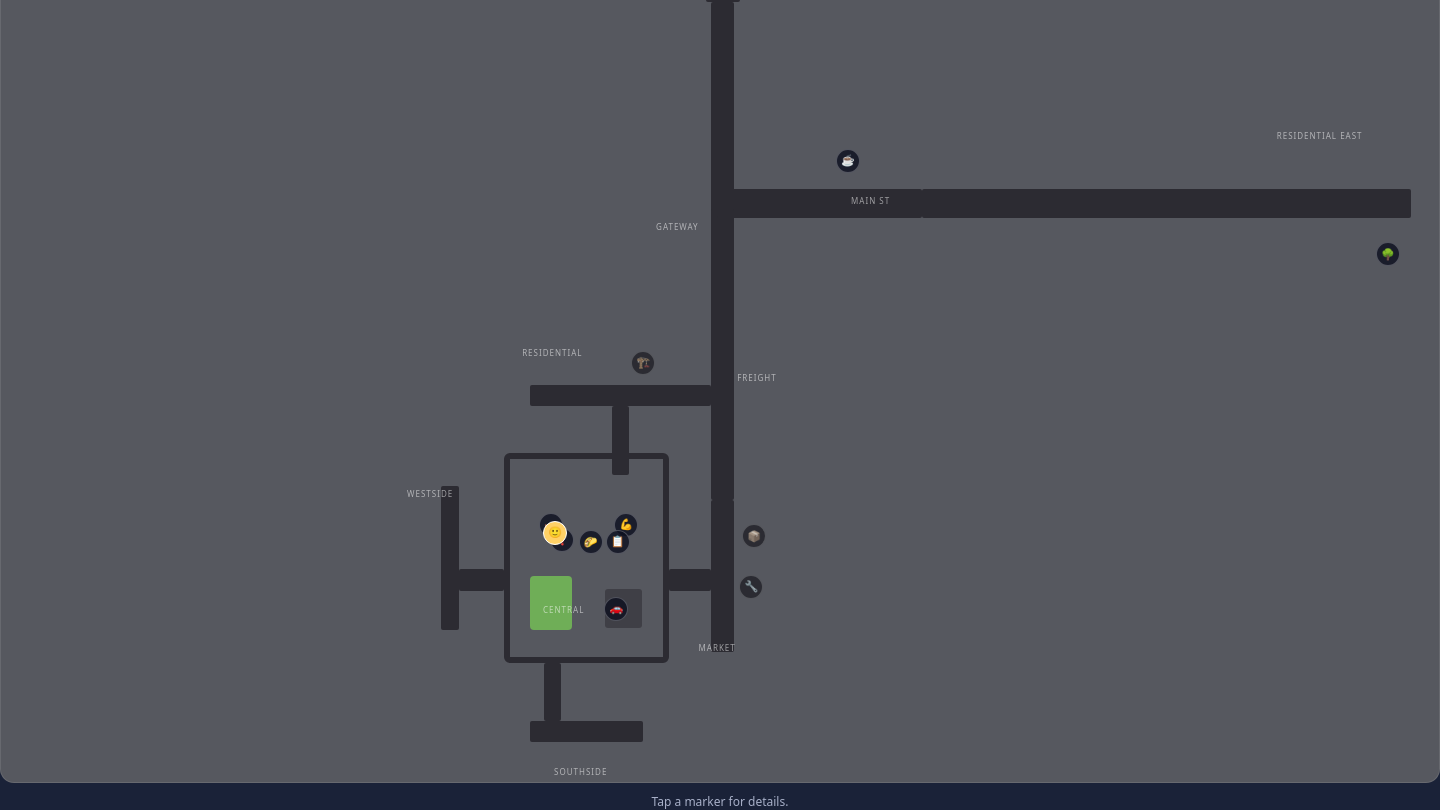
PhoneMap › clicking a marker shows its label
The image size is (1440, 810).
(page scrolled)
Click the button with test id "map-marker-gym". click: (626, 525)
box: x1=614 y1=513 x2=638 y2=537
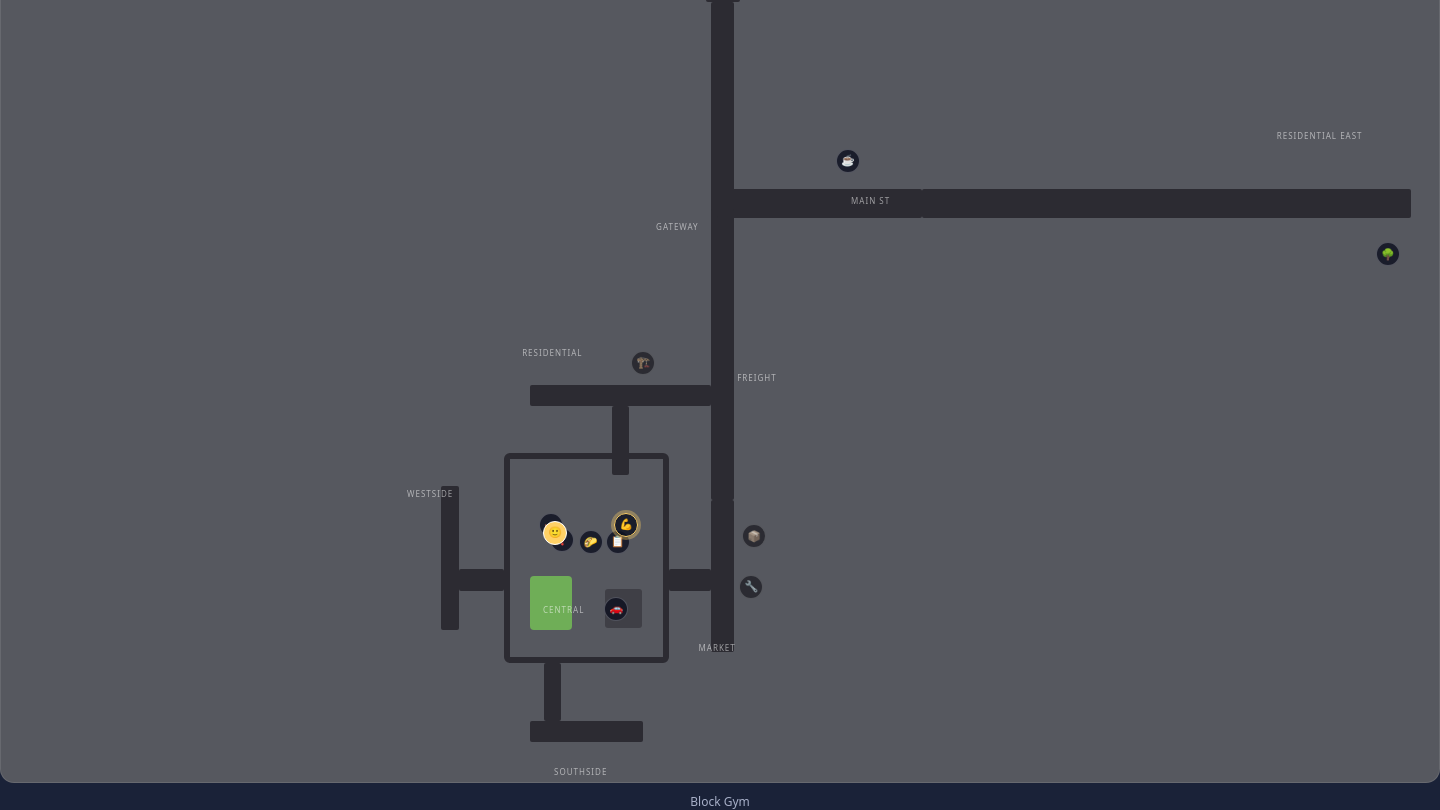
Now the text with test id "phone-map-caption" reads "Block Gym", box x1=690 y1=793 x2=750 y2=809
